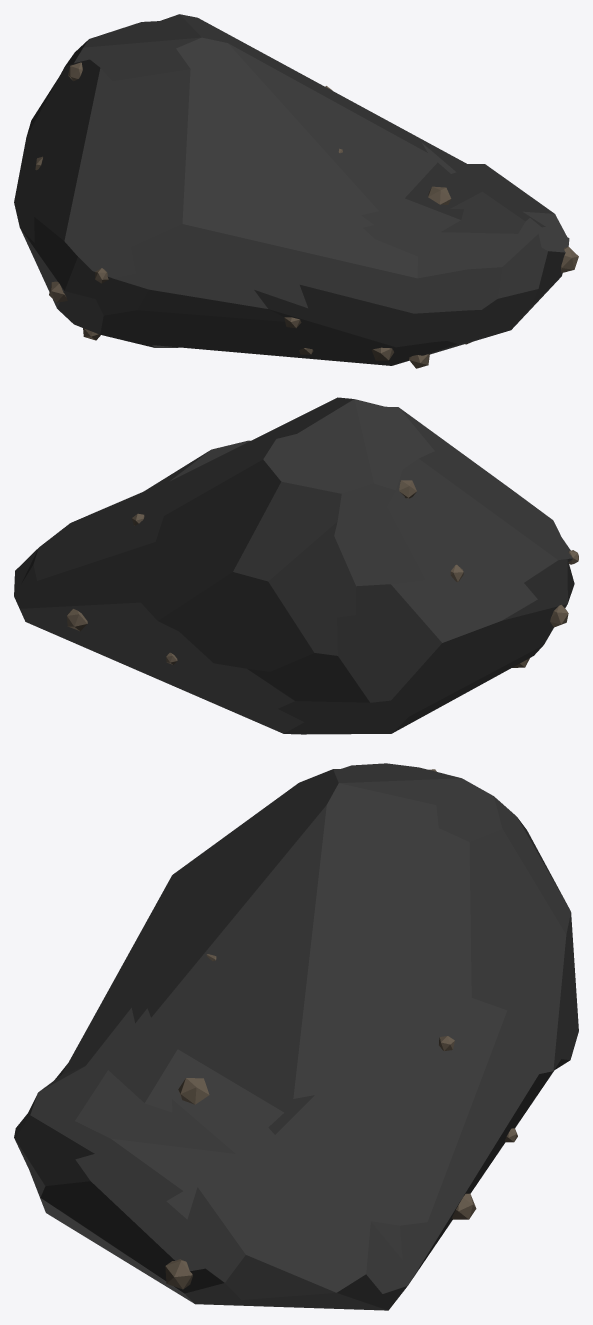
File: Lowpoly_IronRock04.fbx
3 renders of one model, top to bottom at view 1: azimuth 30°, elevation 25°; view 2: azimuth 150°, elevation 25°; view 3: azimuth 270°, elevation 25°, orthographic. The views are drawn at different scales.
Parts seen in each view (by area): view 1: IronRock04; view 2: IronRock04; view 3: IronRock04.
Boxes of the visible parts, <box> form: IronRock04: <box>14,14,578,368</box>; IronRock04: <box>14,397,578,734</box>; IronRock04: <box>14,763,578,1310</box>.
Bounding box in the file's own units: 1131 × 690 × 876.
